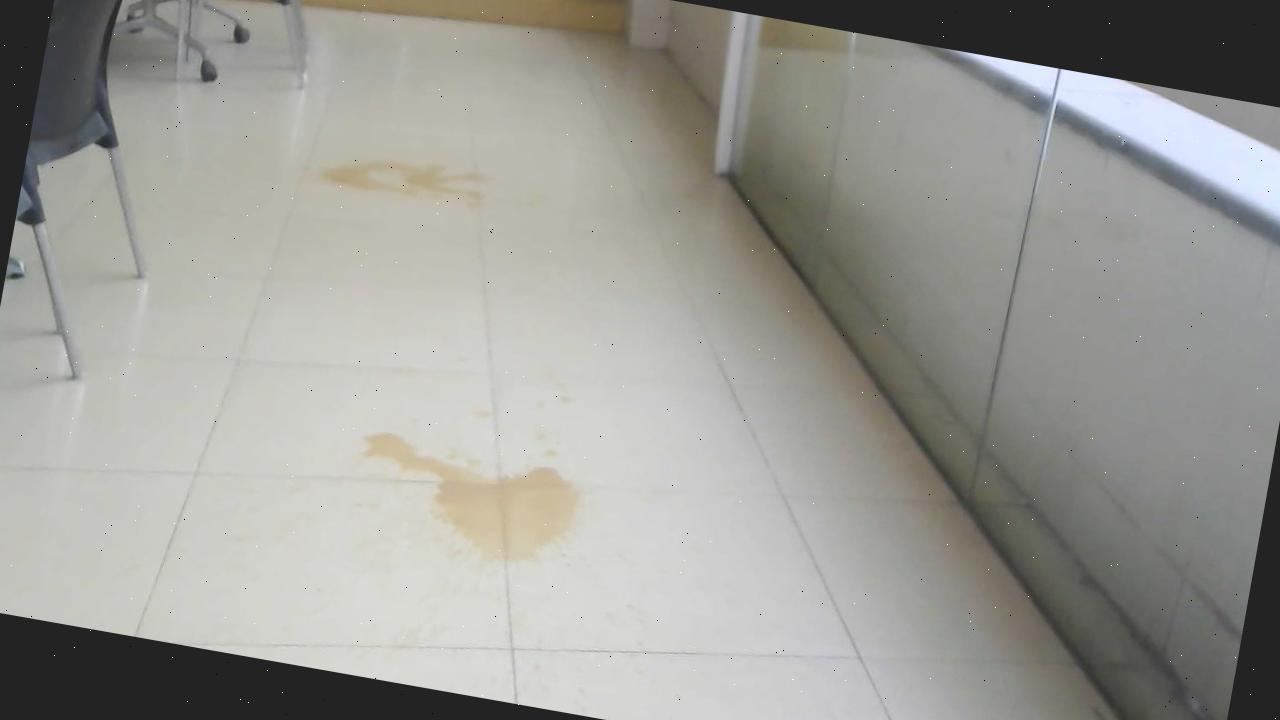dirty_floor: (327, 404, 612, 592)
